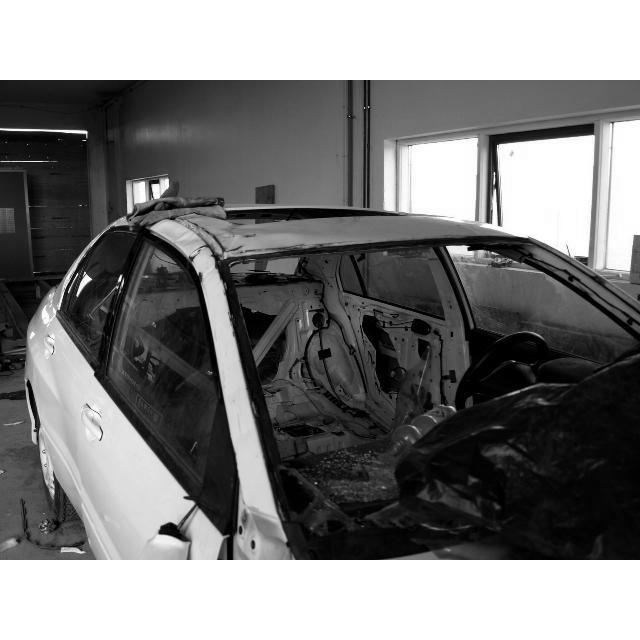Front-windscreen-damage: (223, 258, 640, 527)
doorouter-dent: (96, 402, 259, 559)
roof-dent: (149, 184, 532, 258)
